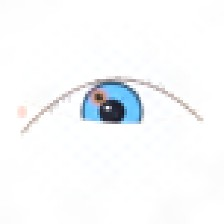foreign_body_visible: (114, 134, 130, 147)
